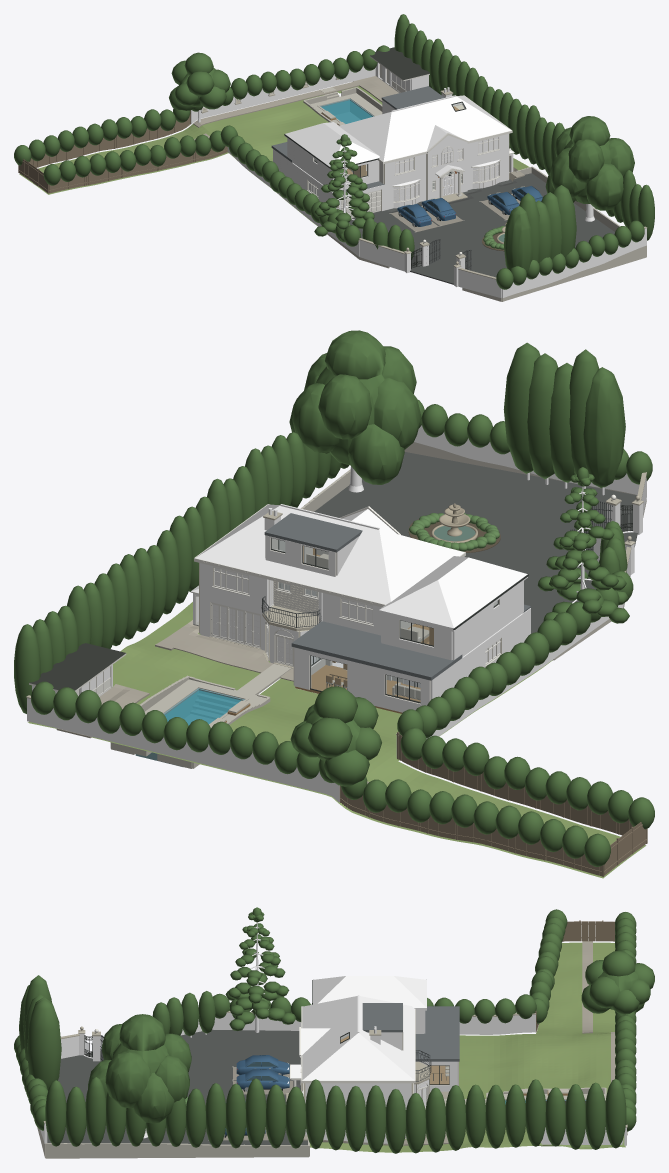
3 renders of one model, top to bottom at view 1: azimuth 30°, elevation 25°; view 2: azimuth 150°, elevation 25°; view 3: azimuth 270°, elevation 25°, orthographic. The views are drawn at different scales.
Parts seen in each view (by area): view 1: E1 | Circular driveway - tarmac.004, E1 | Main hipped roof, E1 | Plot ground - title plan approximate.008, Main rear garden niche wall, Mature tree foliage.085, Front south boundary wall, E1 | Subordinate side roof plane 3, Mature tree foliage.007, Mature tree foliage.006, Rear wall garden path, Mature tree foliage.089, Outbuilding flat roof (+25 smaller); view 2: E1 | Circular driveway - tarmac.004, E1 | Plot ground - title plan approximate.008, E1 | Main hipped roof, Main rear garden niche wall, E1 | Rear addition flat roof, Mature tree foliage.085, E1 | Subordinate side roof plane 3, Mature tree foliage.089, Mature tree foliage.088, Mature tree foliage.003, Mature tree foliage.004, Mature tree foliage.005 (+39 smaller); view 3: E1 | Plot ground - title plan approximate.008, E1 | Main hipped roof, E1 | Circular driveway - tarmac.004, Mature tree foliage.089, E1 | Rear addition flat roof, Western house boundary wall, Mature tree foliage.008, E1 | Subordinate side roof plane 1, Mature tree foliage.009, Mature tree foliage.001, Boundary hedge, Boundary hedge.018 (+50 smaller).
Boxes of the visible parts, box(x1,y1,x2,y2) form: E1 | Circular driveway - tarmac.004: box(349, 173, 614, 284); E1 | Main hipped roof: box(339, 95, 511, 161); E1 | Plot ground - title plan approximate.008: box(19, 86, 529, 226); Main rear garden niche wall: box(191, 65, 375, 124); Mature tree foliage.085: box(503, 206, 533, 277); Front south boundary wall: box(502, 228, 646, 298); E1 | Subordinate side roof plane 3: box(285, 123, 341, 170); Mature tree foliage.007: box(585, 164, 623, 210); Mature tree foliage.006: box(568, 139, 604, 182); Rear wall garden path: box(193, 81, 359, 127); Mature tree foliage.089: box(553, 185, 576, 258); Outbuilding flat roof: box(369, 47, 429, 81); E1 | Circular driveway - tarmac.004: box(314, 452, 637, 633); E1 | Plot ground - title plan approximate.008: box(28, 602, 646, 878); E1 | Main hipped roof: box(196, 504, 464, 604); Main rear garden niche wall: box(27, 698, 339, 802); E1 | Rear addition flat roof: box(291, 621, 462, 680); Mature tree foliage.085: box(583, 367, 625, 488); E1 | Subordinate side roof plane 3: box(438, 557, 527, 631); Mature tree foliage.089: box(503, 342, 540, 473); Mature tree foliage.088: box(527, 353, 558, 479); Mature tree foliage.003: box(318, 374, 371, 439); Mature tree foliage.004: box(348, 424, 404, 484); Mature tree foliage.005: box(374, 378, 421, 449); E1 | Plot ground - title plan approximate.008: box(310, 942, 625, 1152); E1 | Main hipped roof: box(302, 996, 414, 1080); E1 | Circular driveway - tarmac.004: box(47, 1029, 307, 1145); Mature tree foliage.089: box(27, 998, 61, 1090); E1 | Rear addition flat roof: box(415, 1006, 459, 1061); Western house boundary wall: box(212, 1013, 535, 1034); Mature tree foliage.008: box(105, 1051, 151, 1108); E1 | Subordinate side roof plane 1: box(318, 976, 426, 1010); Mature tree foliage.009: box(119, 1014, 165, 1051); Mature tree foliage.001: box(133, 1073, 174, 1123); Boundary hedge: box(605, 1079, 626, 1148); Boundary hedge.018: box(245, 1078, 266, 1148).
Bounding box in the file's own units: 45.93 × 13.34 × 53.16.
